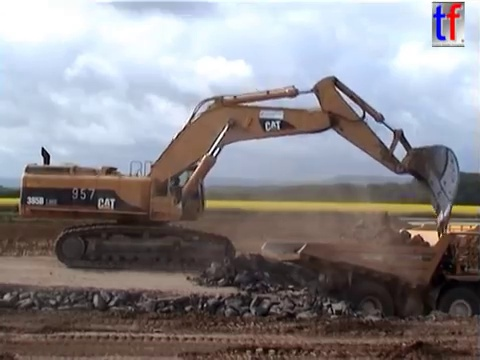excavator: (16, 73, 464, 274)
truck: (258, 221, 480, 336)
